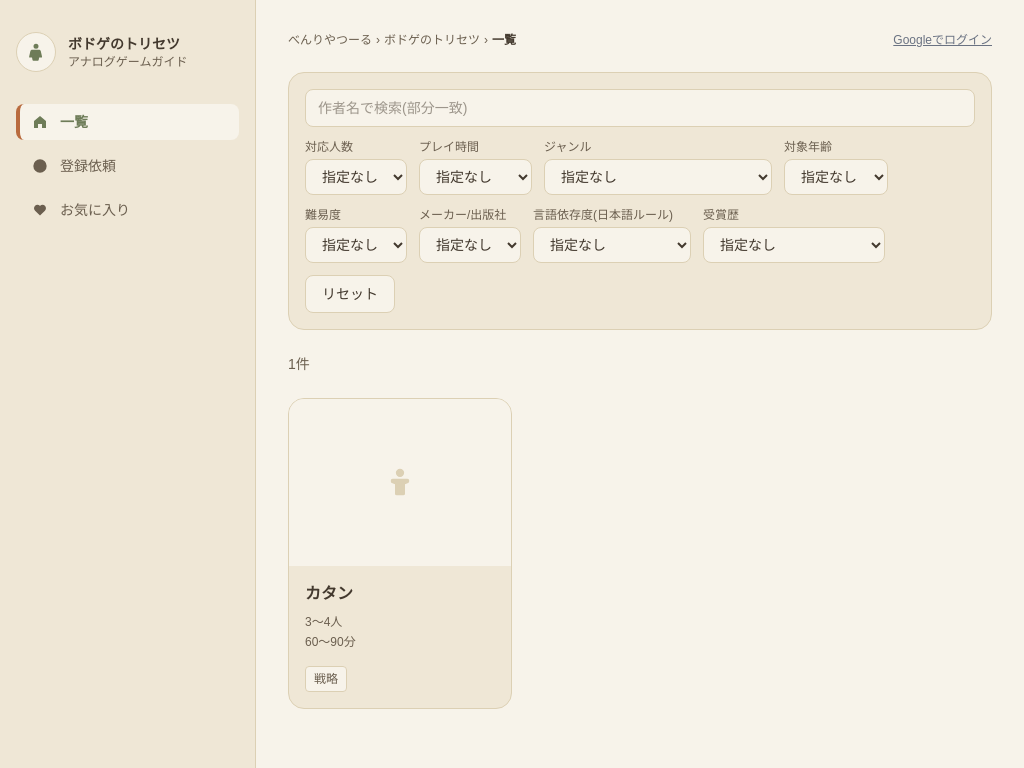
【一覧画面】絞り込み結果が0件のときの表示 - 取得エラーとは異なる「見つかりませんでした」の案内にする › 絞り込んだ結果が0件になると、件数が「0件」になり「見つかりませんでした」の案内が表示されること
Expected: the link "カタン" is shown, [305,584,353,602]
Type "存在しない作者名" into the field named "作者で検索" at coordinates (640, 108), box [305,89,975,127]
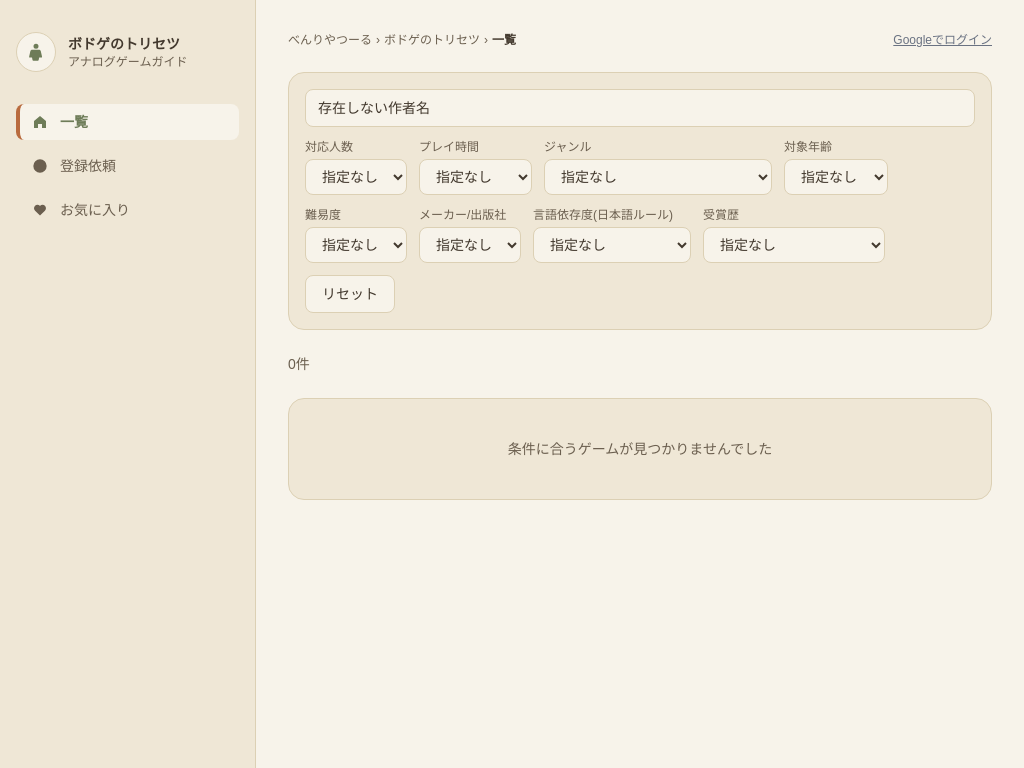
Expected: the text "0件" is shown, [288,356,310,372]
Expected: the text "条件に合うゲームが見つかりませんでした" is shown, [508,439,772,459]
